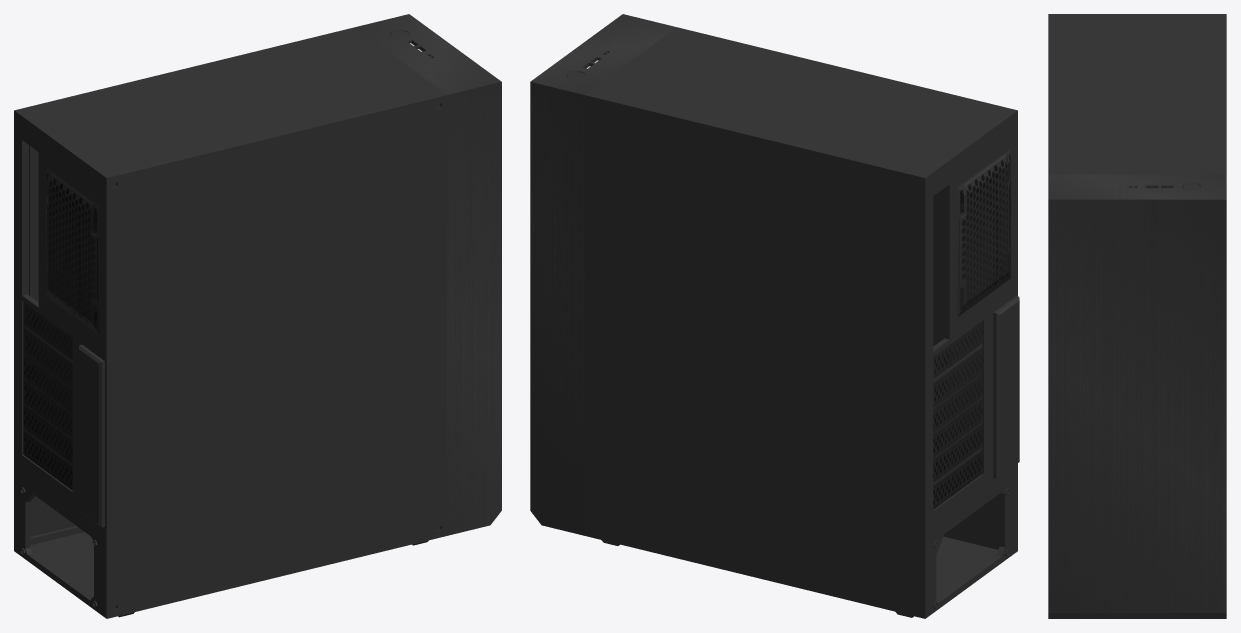
The model's file is 主機殼.fbx.
3 renders of one model, left to right at view 1: azimuth 30°, elevation 25°; view 2: azimuth 150°, elevation 25°; view 3: azimuth 270°, elevation 25°, orthographic. The views are drawn at different scales.
Visible parts, largest first — view 1: 立方體.003, 立方體.016, 立方體.005, 立方體.012, 立方體.006, 立方體.007, 立方體.009, 立方體.010, 立方體.008, 立方體.017, 立方體.015; view 2: 立方體.015, 立方體.016, 立方體.005, 立方體.003, 立方體.007, 立方體.008, 立方體.009, 立方體.006, 立方體.010, 立方體.017; view 3: 立方體.016.
Part boxes in pixels (bbox=[...]): 立方體.003: bbox=[112, 102, 442, 612]; 立方體.016: bbox=[14, 14, 501, 618]; 立方體.005: bbox=[46, 167, 99, 335]; 立方體.012: bbox=[29, 145, 38, 302]; 立方體.006: bbox=[23, 429, 72, 490]; 立方體.007: bbox=[23, 403, 72, 464]; 立方體.009: bbox=[23, 352, 72, 413]; 立方體.010: bbox=[23, 326, 72, 387]; 立方體.008: bbox=[23, 378, 72, 438]; 立方體.017: bbox=[23, 302, 72, 361]; 立方體.015: bbox=[30, 496, 75, 536]; 立方體.015: bbox=[589, 102, 920, 612]; 立方體.016: bbox=[530, 14, 1019, 618]; 立方體.005: bbox=[957, 148, 1010, 317]; 立方體.003: bbox=[933, 188, 944, 346]; 立方體.007: bbox=[933, 422, 982, 483]; 立方體.008: bbox=[933, 397, 982, 457]; 立方體.009: bbox=[933, 371, 982, 432]; 立方體.006: bbox=[933, 448, 982, 509]; 立方體.010: bbox=[933, 345, 982, 406]; 立方體.017: bbox=[933, 321, 982, 380]; 立方體.016: bbox=[1048, 14, 1226, 618].
Bounding box in the file's own units: 658 × 706 × 264.
